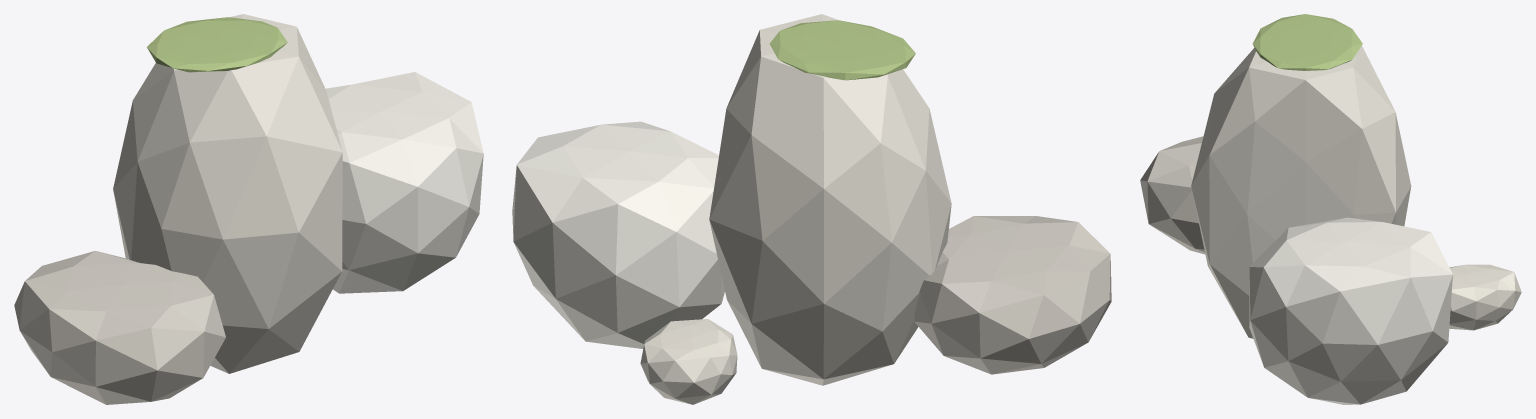
The model's file is rocha_grande_2.fbx.
The picture shows the model from 3 angles, left to right: view 1: azimuth 30°, elevation 25°; view 2: azimuth 150°, elevation 25°; view 3: azimuth 270°, elevation 25°; orthographic projection. The views are drawn at different scales.
Visible parts, largest first — view 1: rocha_grande_2~Bloco 0@stone, rocha_grande_2~Bloco 1@stonelight, rocha_grande_2~Bloco 2@stonedark, rocha_grande_2~Musgo@moss; view 2: rocha_grande_2~Bloco 0@stone, rocha_grande_2~Bloco 1@stonelight, rocha_grande_2~Bloco 2@stonedark, rocha_grande_2~Bloco 3@stone, rocha_grande_2~Musgo@moss; view 3: rocha_grande_2~Bloco 0@stone, rocha_grande_2~Bloco 1@stonelight, rocha_grande_2~Bloco 2@stonedark, rocha_grande_2~Musgo@moss, rocha_grande_2~Bloco 3@stone.
Part boxes in pixels (x1=…): rocha_grande_2~Bloco 0@stone: x1=113, y1=14, x2=342, y2=373; rocha_grande_2~Bloco 1@stonelight: x1=325, y1=72, x2=483, y2=293; rocha_grande_2~Bloco 2@stonedark: x1=14, y1=251, x2=225, y2=404; rocha_grande_2~Musgo@moss: x1=147, y1=17, x2=287, y2=72; rocha_grande_2~Bloco 0@stone: x1=709, y1=14, x2=951, y2=385; rocha_grande_2~Bloco 1@stonelight: x1=512, y1=121, x2=724, y2=348; rocha_grande_2~Bloco 2@stonedark: x1=914, y1=216, x2=1111, y2=374; rocha_grande_2~Bloco 3@stone: x1=640, y1=319, x2=737, y2=404; rocha_grande_2~Musgo@moss: x1=769, y1=20, x2=915, y2=80; rocha_grande_2~Bloco 0@stone: x1=1191, y1=46, x2=1411, y2=338; rocha_grande_2~Bloco 1@stonelight: x1=1249, y1=217, x2=1452, y2=404; rocha_grande_2~Bloco 2@stonedark: x1=1140, y1=136, x2=1205, y2=254; rocha_grande_2~Musgo@moss: x1=1252, y1=14, x2=1362, y2=70; rocha_grande_2~Bloco 3@stone: x1=1449, y1=264, x2=1521, y2=330.
Bounding box in the file's own units: 2.69 × 1.74 × 1.98.
